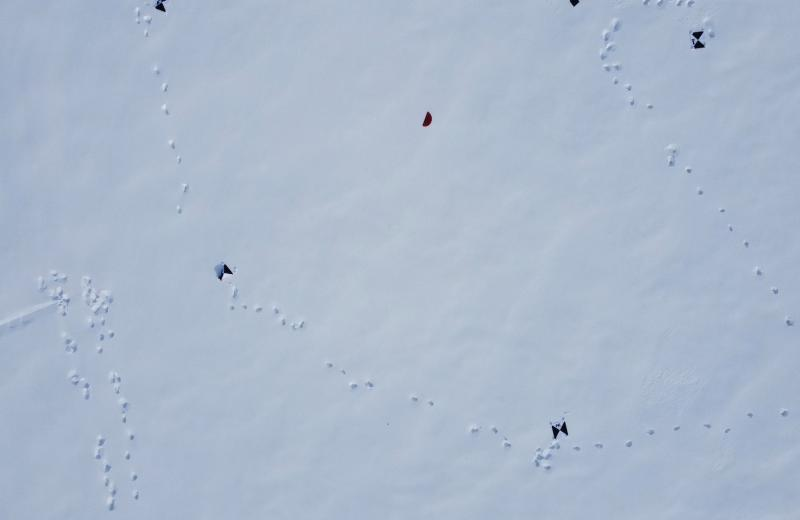Semi Circle: (421, 111, 433, 128)
Square: (568, 0, 580, 8)
